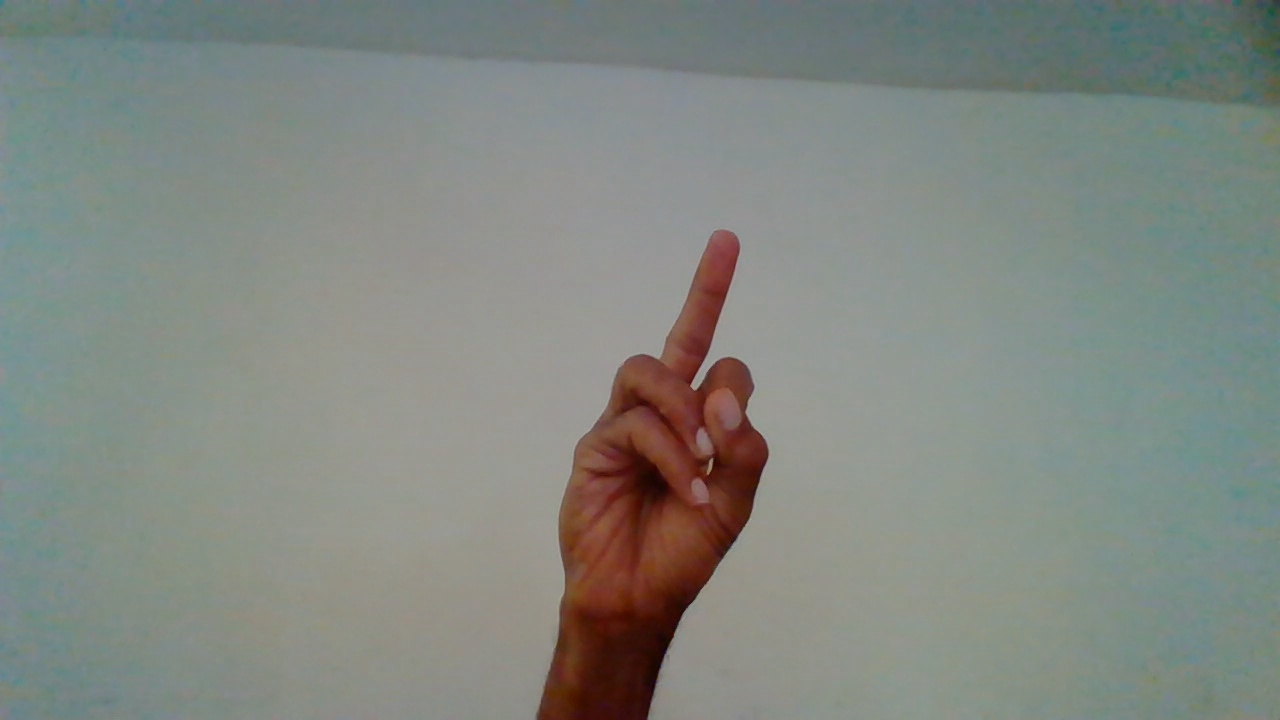he: (548, 231, 764, 697)
